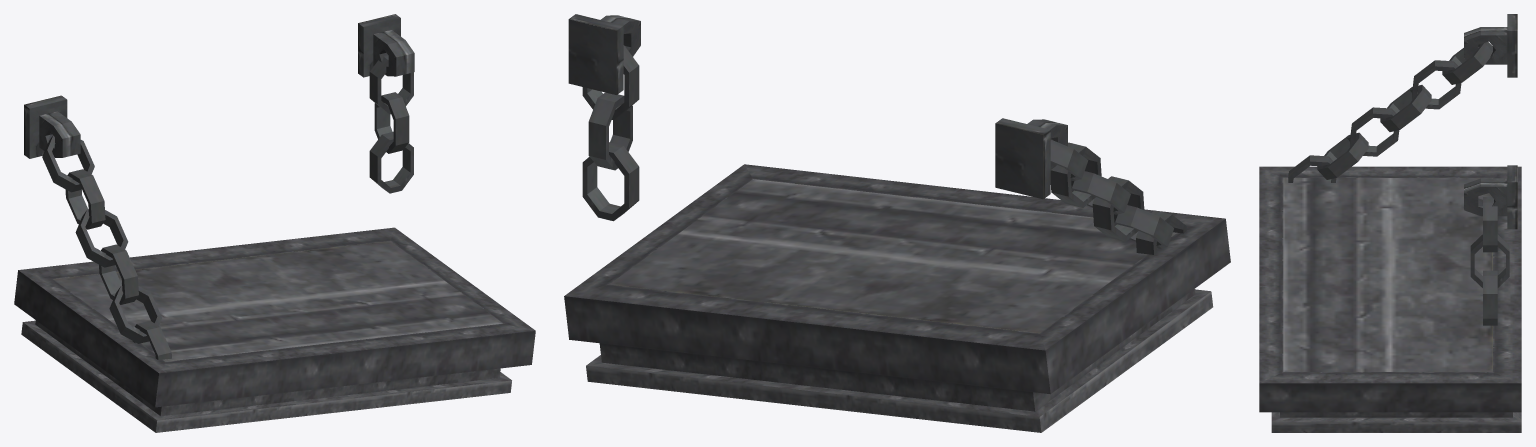
The model's file is prison-bed-02.fbx.
The picture shows the model from 3 angles, left to right: view 1: azimuth 30°, elevation 25°; view 2: azimuth 150°, elevation 25°; view 3: azimuth 270°, elevation 25°; orthographic projection. The views are drawn at different scales.
Visible parts, largest first — view 1: Cube.247; view 2: Cube.247; view 3: Cube.247.
Part boxes in pixels (x1,y1,x2,y2): Cube.247: [14, 14, 535, 432]; Cube.247: [564, 14, 1230, 432]; Cube.247: [1259, 14, 1521, 432].
Bounding box in the file's own units: 2.01 × 1.4 × 1.29.
